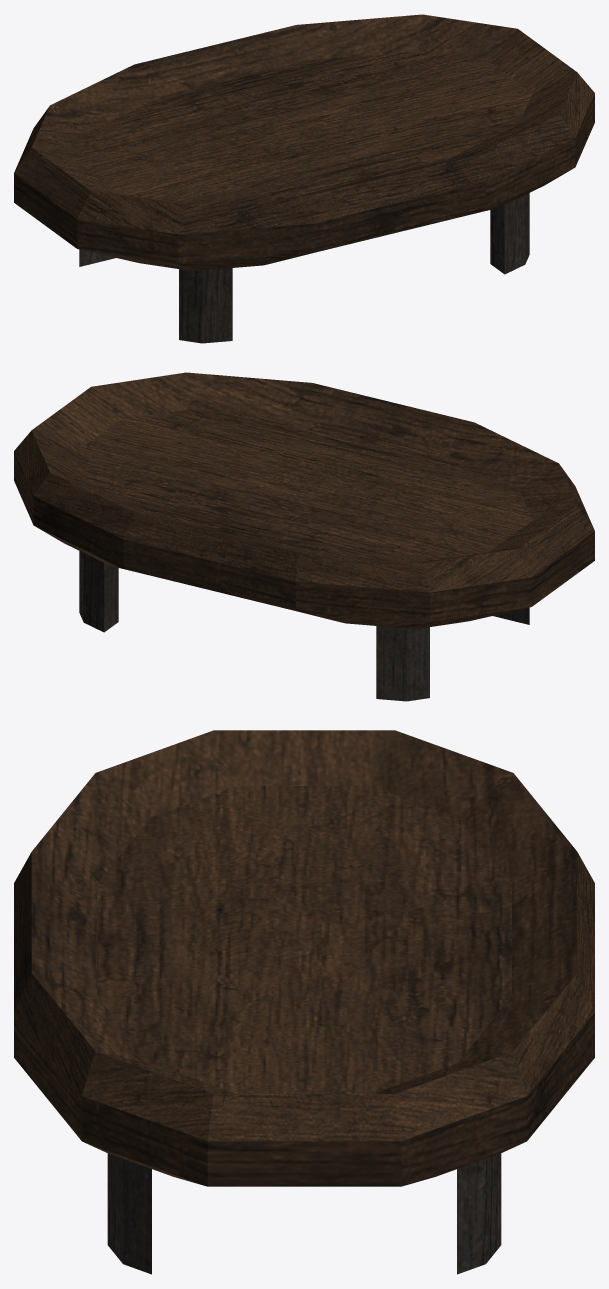
The model's file is LivingRoomTable.glb.
3 renders of one model, top to bottom at view 1: azimuth 30°, elevation 25°; view 2: azimuth 150°, elevation 25°; view 3: azimuth 270°, elevation 25°, orthographic. The views are drawn at different scales.
Visible parts, largest first — view 1: Plane; view 2: Plane; view 3: Plane.
Part boxes in pixels (box(x1,y1,x2,y2)): Plane: box(14, 14, 594, 343); Plane: box(14, 372, 594, 701); Plane: box(14, 730, 594, 1274).
Size of the model in its own units: 4.12 by 1.15 by 2.61.
1 material, 1 textured.
